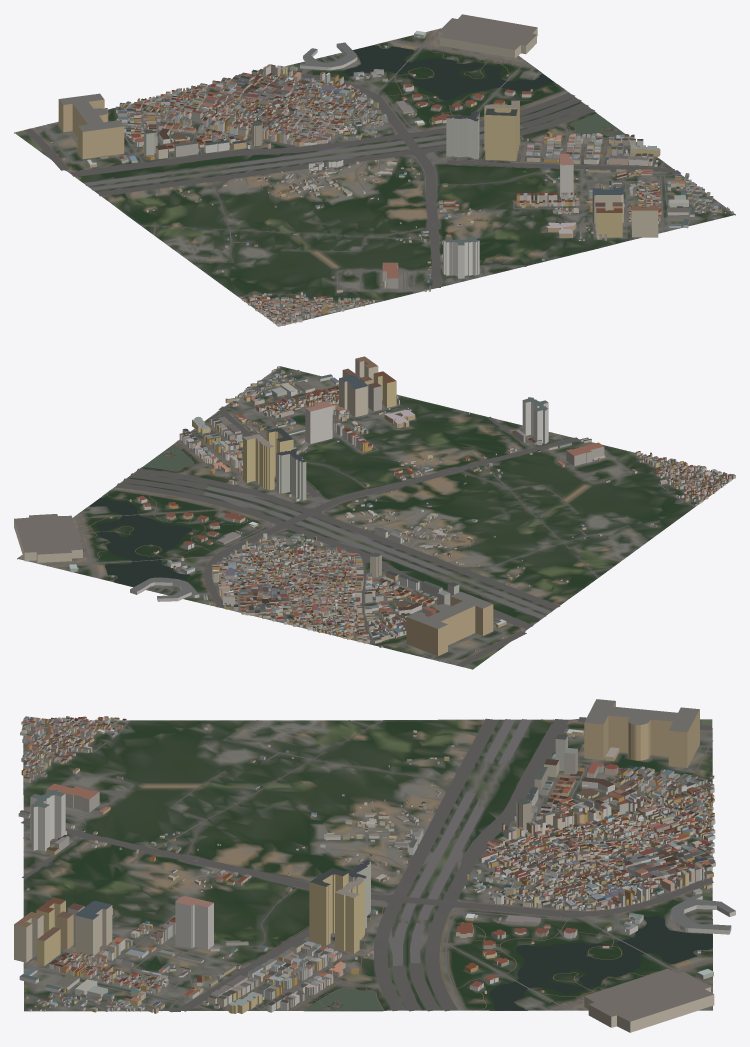
3 views of the same model, one above another, from view 1: azimuth 30°, elevation 25°; view 2: azimuth 150°, elevation 25°; view 3: azimuth 270°, elevation 25° (orthographic). The views are drawn at different scales.
Parts seen in each view (by area): view 1: ground, buildings, roads, water; view 2: ground, buildings, roads, water; view 3: ground, buildings, roads, water.
Part boxes in pixels (x1,y1,x2,y2): ground: [14, 28, 735, 326]; buildings: [50, 14, 733, 326]; roads: [24, 28, 723, 321]; water: [343, 45, 625, 135]; ground: [17, 366, 732, 669]; buildings: [14, 356, 735, 655]; roads: [17, 375, 728, 667]; water: [89, 444, 275, 586]; ground: [23, 719, 712, 1011]; buildings: [14, 699, 735, 1032]; roads: [21, 717, 713, 1012]; water: [303, 915, 712, 1010].
Size of the model in its own units: 1518 by 137 by 1469.
